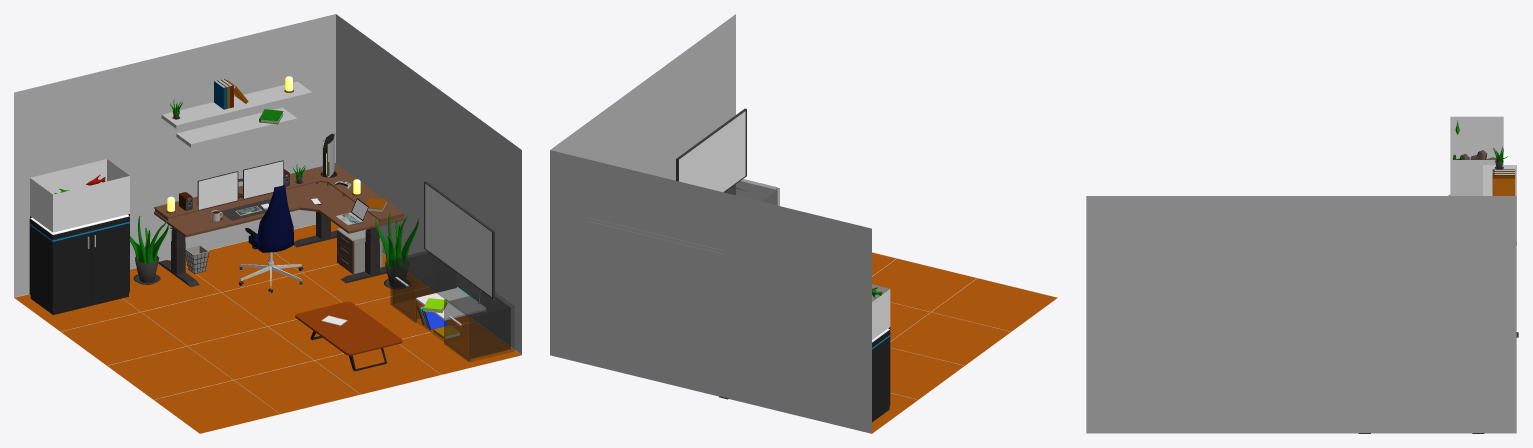
File: portfolio2.glb
3 views of the same model, side by side, from view 1: azimuth 30°, elevation 25°; view 2: azimuth 150°, elevation 25°; view 3: azimuth 270°, elevation 25° (orthographic). The views are drawn at different scales.
Parts seen in each view (by area): view 1: Cube.038, Cube.054, Cube.039, aqu, tv-screen, Cube.041, Cube.048, Cube.040, Cube.004, Cube.059, Cube.057, Cube (+18 smaller); view 2: Cube.038, tv-screen, Cube.054, aqu, Cube.039, Cube.063, Cube.041, Cube.047; view 3: Cube.038, aqu, Cube.059, Cube.061.
Boxes of the visible parts, x1,y1,x2,y2 form: Cube.038: (14, 14, 521, 433); Cube.054: (29, 216, 129, 314); Cube.039: (393, 251, 514, 361); aqu: (30, 159, 129, 234); tv-screen: (425, 183, 491, 296); Cube.041: (444, 293, 509, 361); Cube.048: (295, 301, 402, 371); Cube.040: (390, 254, 456, 322); Cube.004: (158, 211, 386, 286); Cube.059: (161, 81, 312, 128); Cube.057: (245, 185, 293, 261); Cube: (154, 193, 299, 237); Cube.038: (550, 14, 1057, 433); tv-screen: (679, 111, 745, 191); Cube.054: (872, 329, 890, 422); aqu: (872, 284, 890, 342); Cube.039: (725, 179, 777, 204); Cube.063: (550, 252, 1057, 433); Cube.041: (725, 182, 779, 205); Cube.047: (676, 108, 746, 192); Cube.038: (1086, 196, 1516, 433); aqu: (1450, 116, 1503, 195); Cube.059: (1483, 165, 1516, 245); Cube.061: (1492, 178, 1515, 195).
Size of the model in its own units: 38.02 by 23.13 by 38.08.
